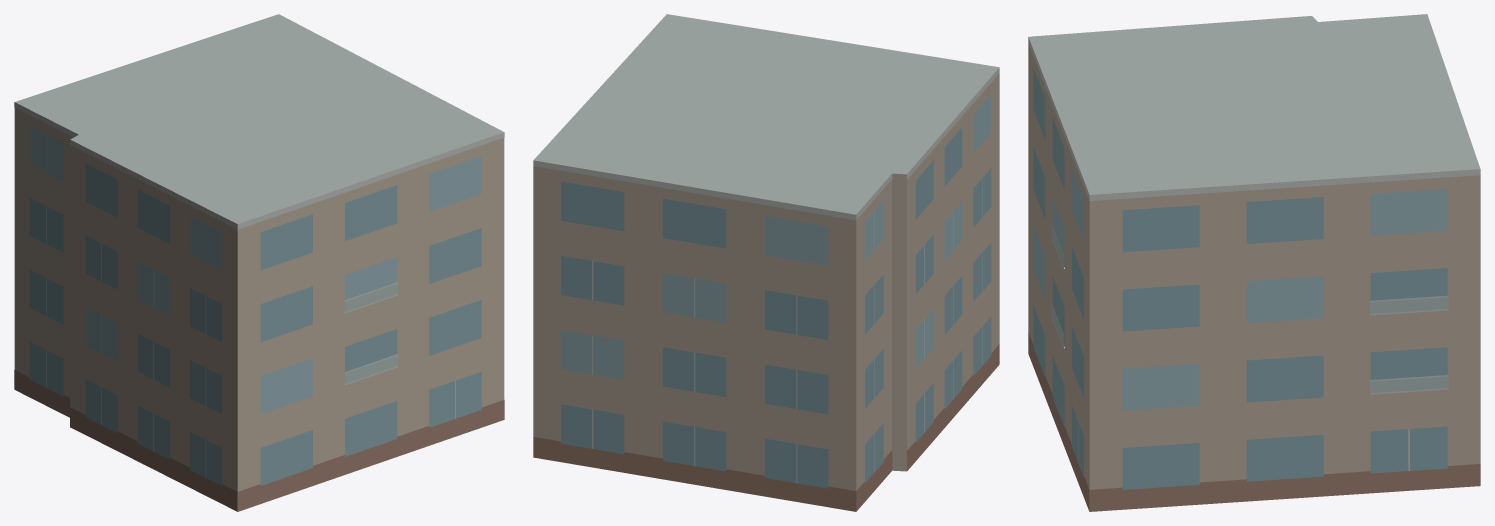
Rendered from survey-upis-32908222.glb.
3 renders of one model, left to right at view 1: azimuth 30°, elevation 25°; view 2: azimuth 150°, elevation 25°; view 3: azimuth 270°, elevation 25°, orthographic. The views are drawn at different scales.
Parts seen in each view (by area): view 1: survey-upis-32908222.tmp; view 2: survey-upis-32908222.tmp; view 3: survey-upis-32908222.tmp.
Part boxes in pixels (x1,y1,x2,y2): survey-upis-32908222.tmp: (14,14,504,511); survey-upis-32908222.tmp: (533,14,999,511); survey-upis-32908222.tmp: (1028,14,1480,511).
Size of the model in its own units: 15.7 by 12.81 by 16.58.
